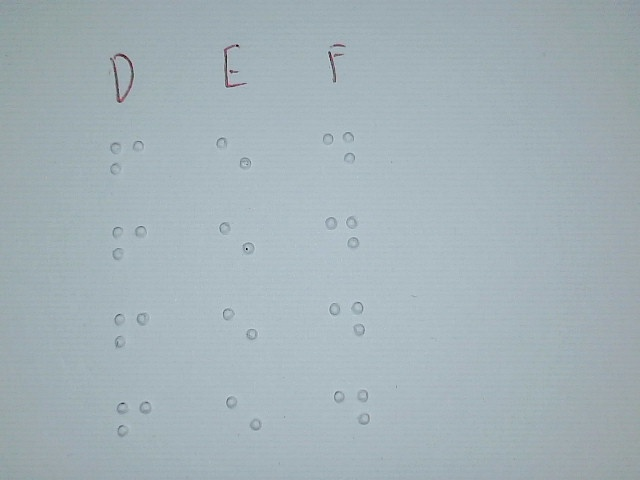D: (329, 286, 366, 352), (321, 118, 357, 183), (324, 201, 360, 266), (333, 374, 369, 439)
E: (214, 123, 252, 189), (217, 208, 255, 274), (221, 294, 259, 360), (225, 382, 263, 448)
F: (108, 127, 146, 193), (110, 211, 148, 277), (113, 298, 151, 364), (115, 388, 153, 454)
